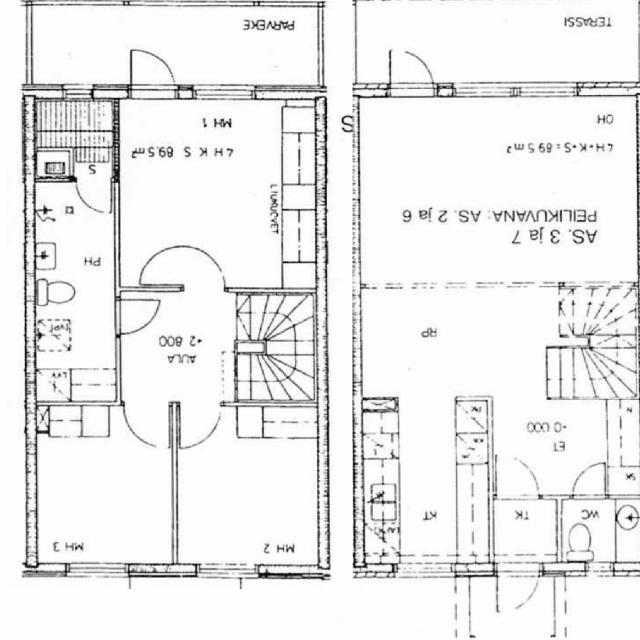door: (390, 41, 434, 96), (132, 44, 175, 100), (498, 562, 540, 616), (179, 400, 223, 448), (125, 401, 169, 448), (497, 454, 539, 499), (183, 248, 225, 292), (114, 300, 155, 334), (77, 177, 112, 216), (572, 463, 604, 499)
